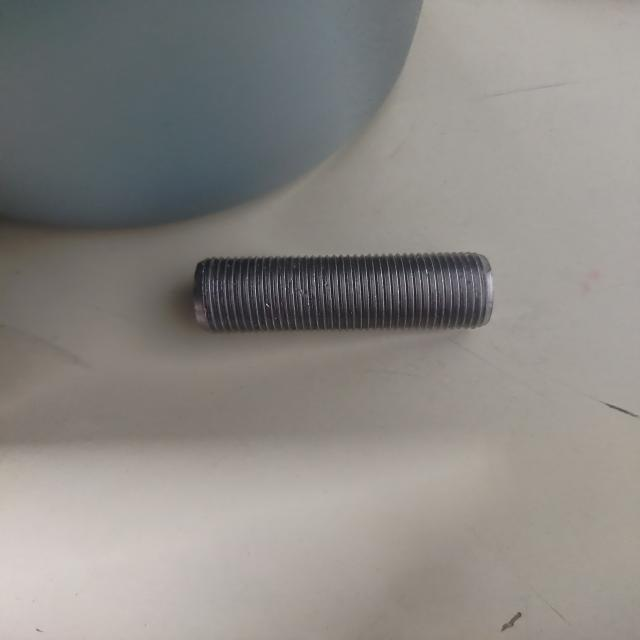Normal: (192, 252, 495, 335)
